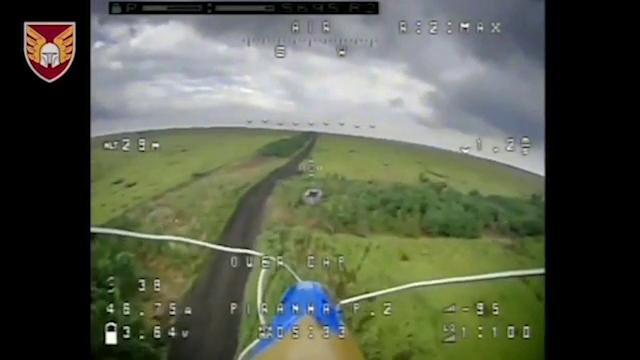tank: (298, 179, 325, 210)
